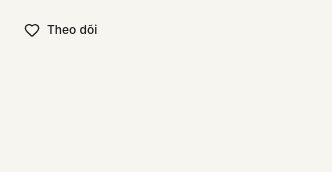
documents all categories and meaningful toggle/copy/loading action examples
Click the button "Theo dõi" at [61, 30], box top-left (12, 12), bottom-right (109, 48)
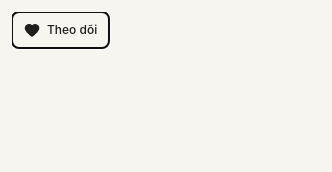
Check: the button "Theo dõi" is pressed, box top-left (12, 12), bottom-right (109, 48)
